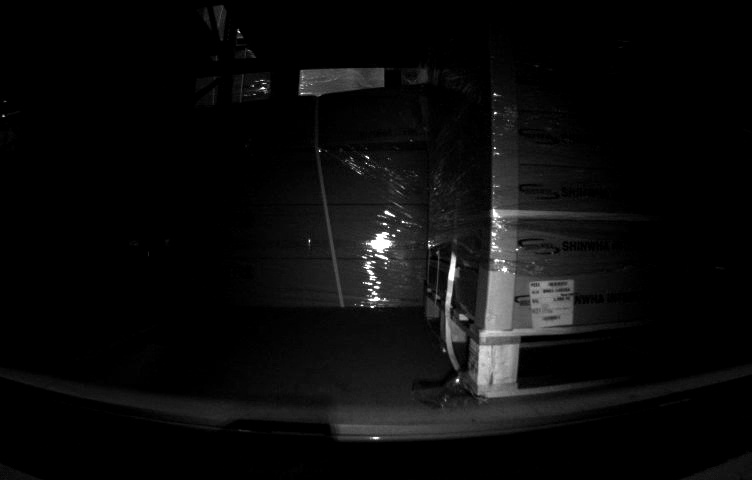True Barcode: (526, 279, 575, 326)
